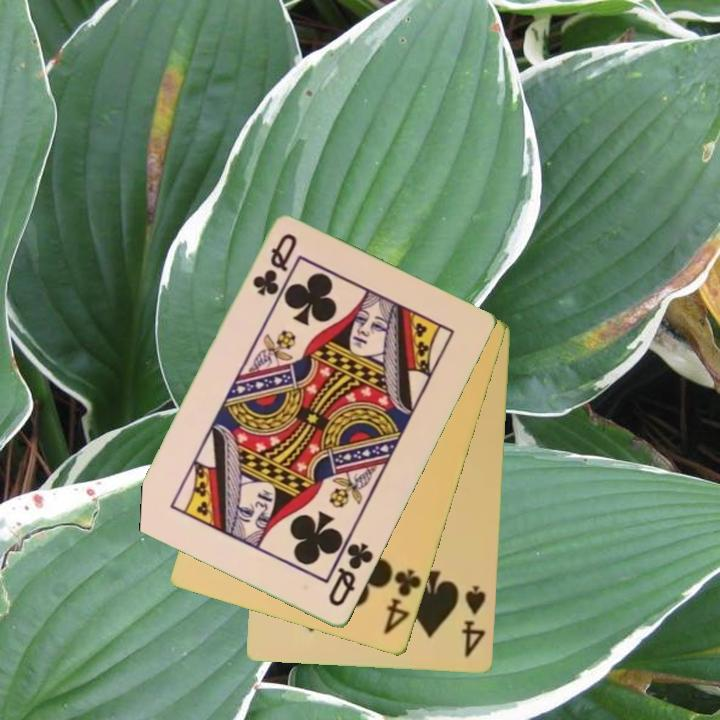4c: (380, 565, 425, 638)
4s: (458, 582, 489, 661)
Qc: (325, 539, 377, 610), (249, 230, 301, 300)
